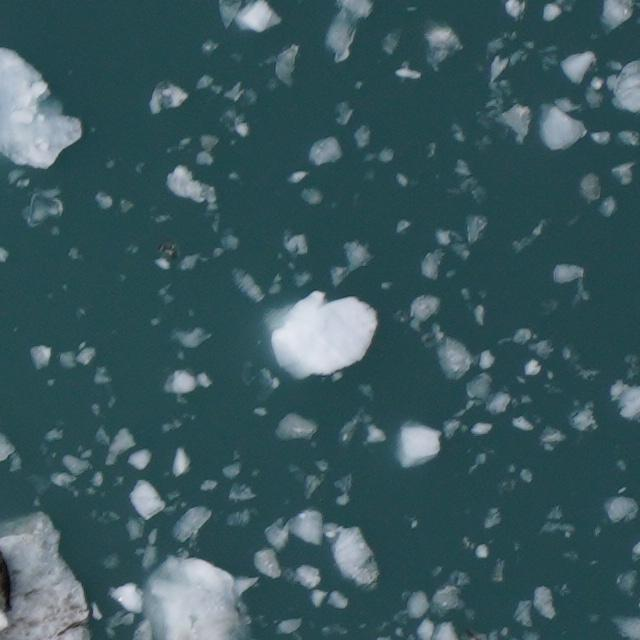seal: (0, 552, 11, 615)
